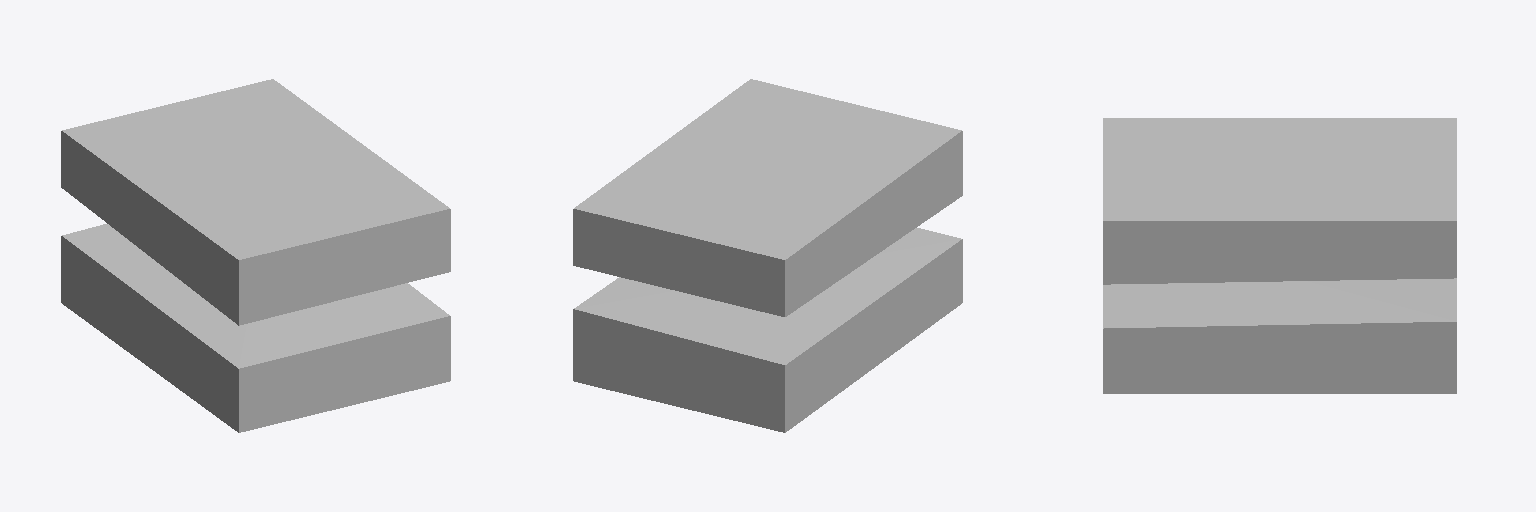
File: block_break.obj
The picture shows the model from 3 angles: view 1: azimuth 30°, elevation 25°; view 2: azimuth 150°, elevation 25°; view 3: azimuth 270°, elevation 25°; orthographic projection.
Visible parts, largest first — view 1: block_break; view 2: block_break; view 3: block_break.
Part boxes in pixels (x1,y1,x2,y2): block_break: (61, 79, 450, 432); block_break: (573, 79, 962, 432); block_break: (1103, 118, 1456, 393).
Size of the model in its own units: 0.3 by 0.234 by 0.435.